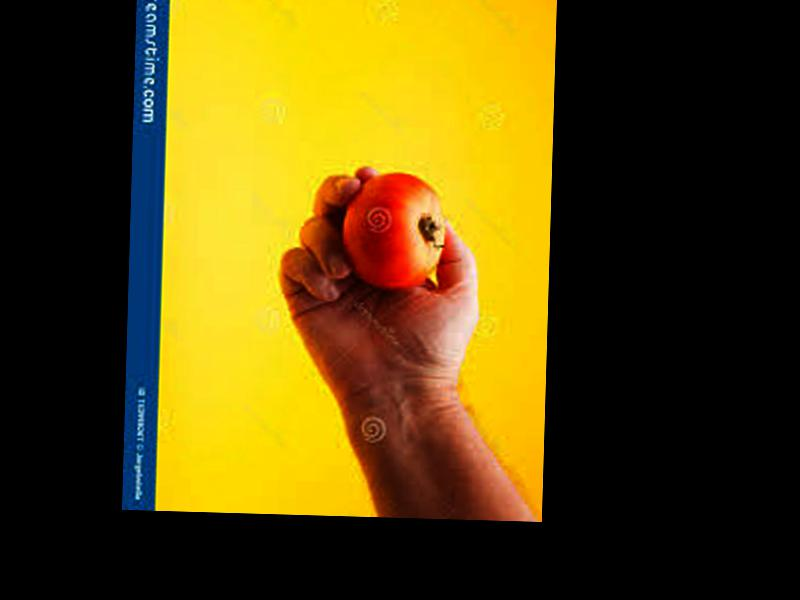Tomato: (341, 172, 445, 290)
